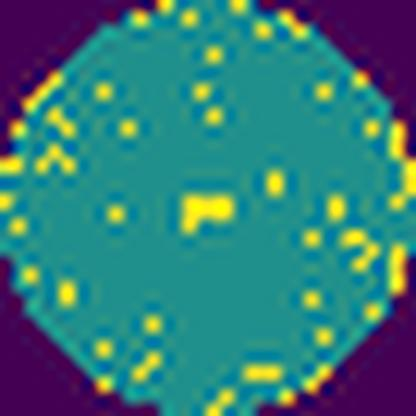Center: (172, 185, 239, 241)
